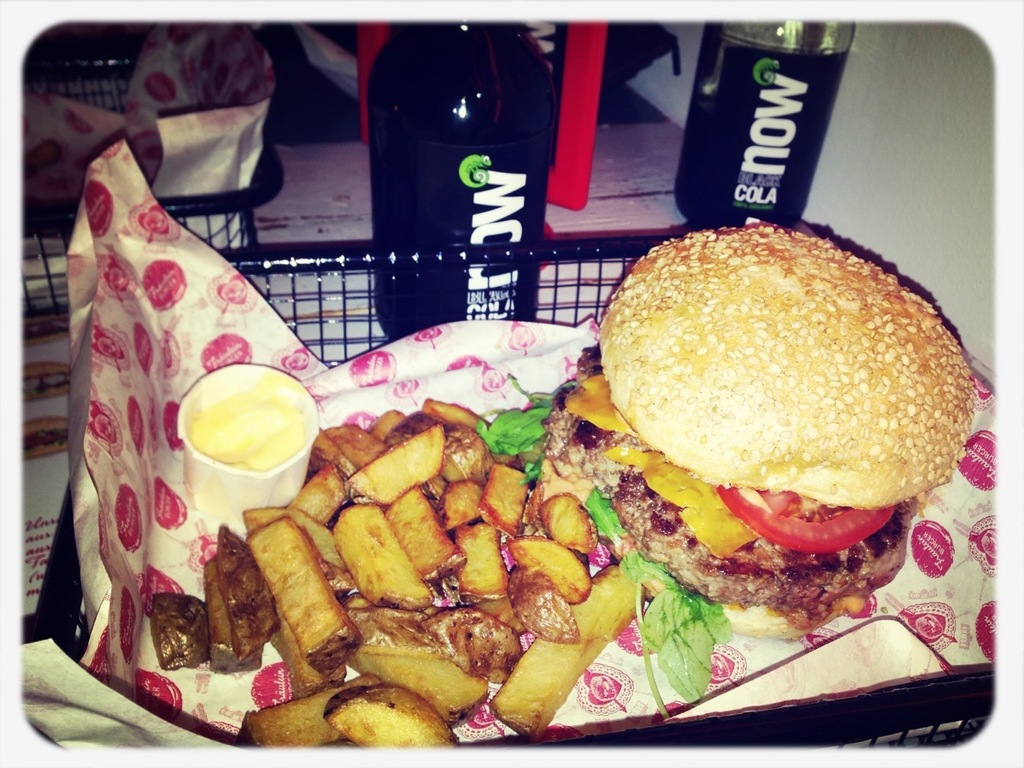French fries: (199, 386, 643, 756)
